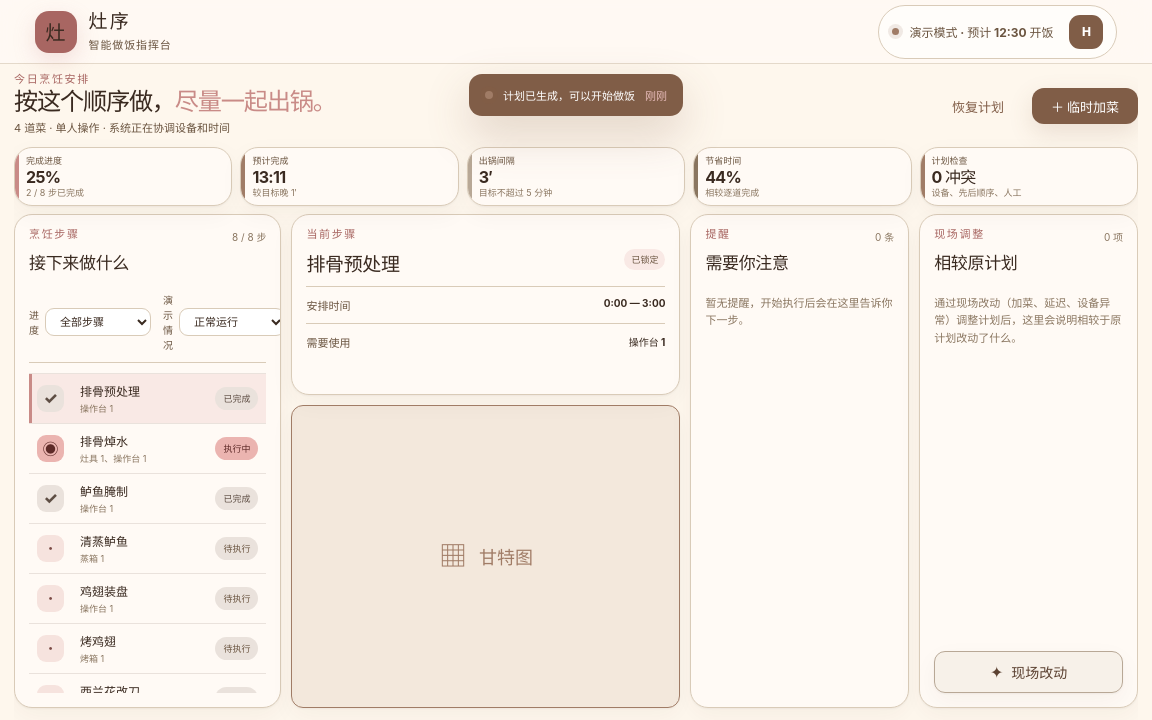
it: ExecutionDashboard › opens the execution chat from the icon button and adds a device from a command
This screenshot has width=1152, height=720.
Click the button "✦ 现场改动" at [1029, 672], box [934,651,1123,693]
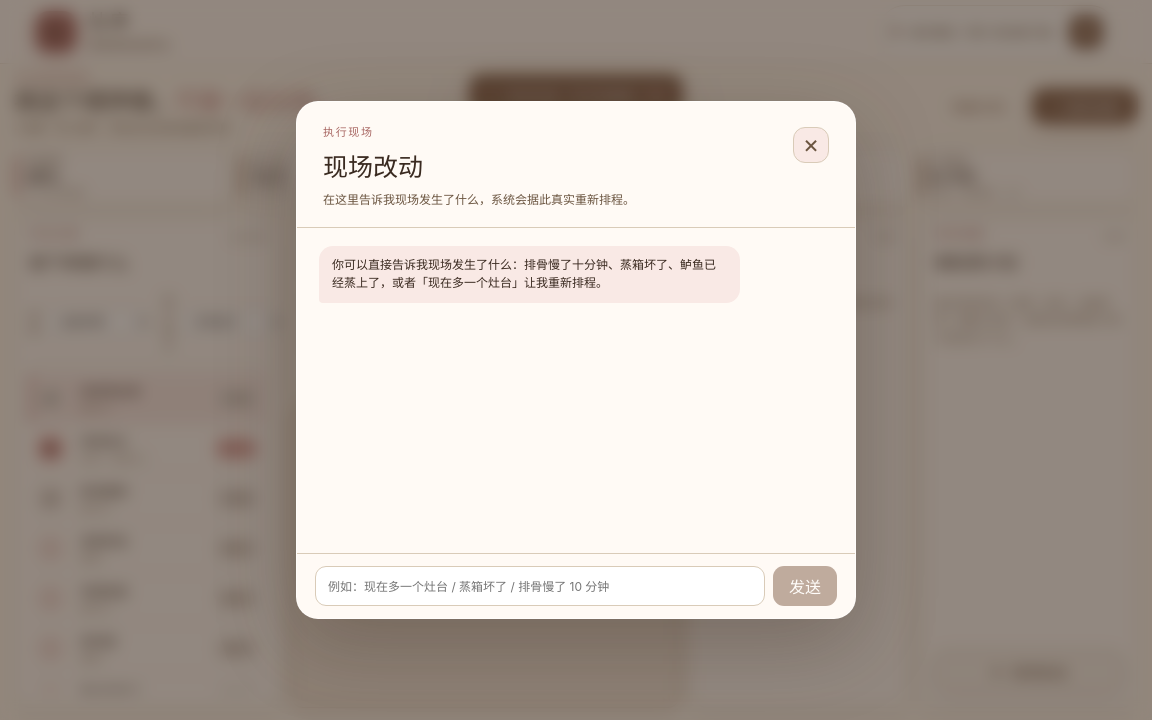
Check: the dialog "现场改动" is shown, box [296,101,856,619]
Type "现在多一个灶台" into the field named "输入执行指令" at [540, 586], box [315,566,765,606]
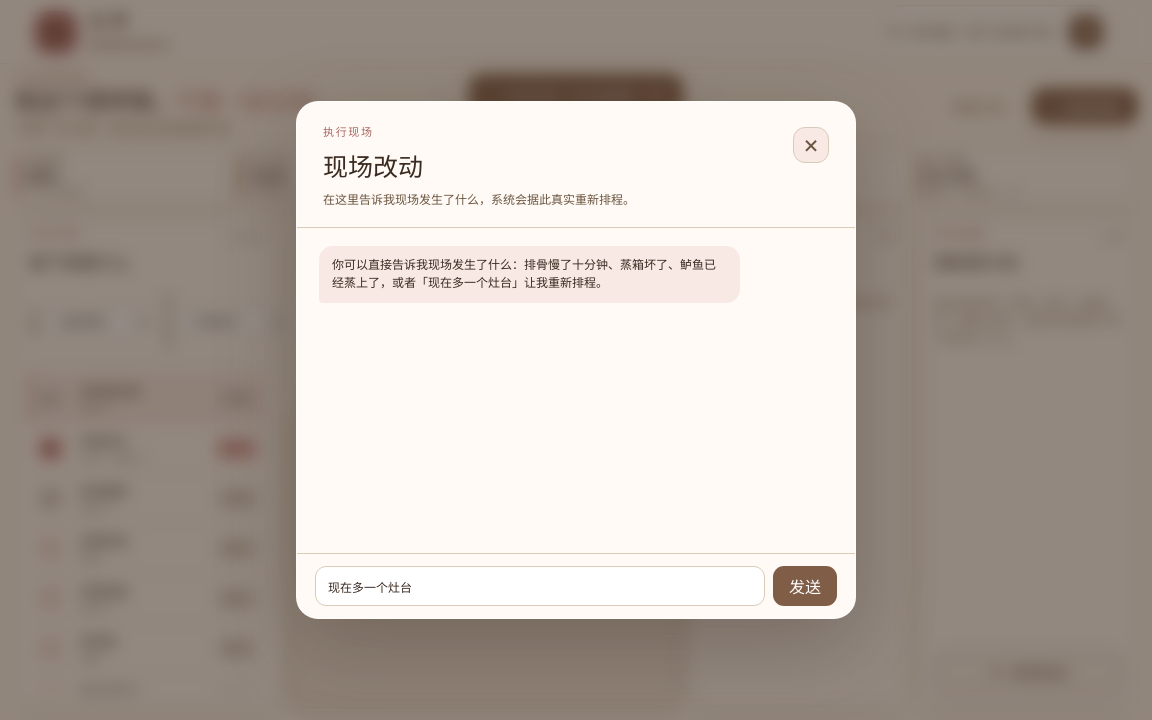
Click the button "发送" at [805, 586], box [773,566,837,606]
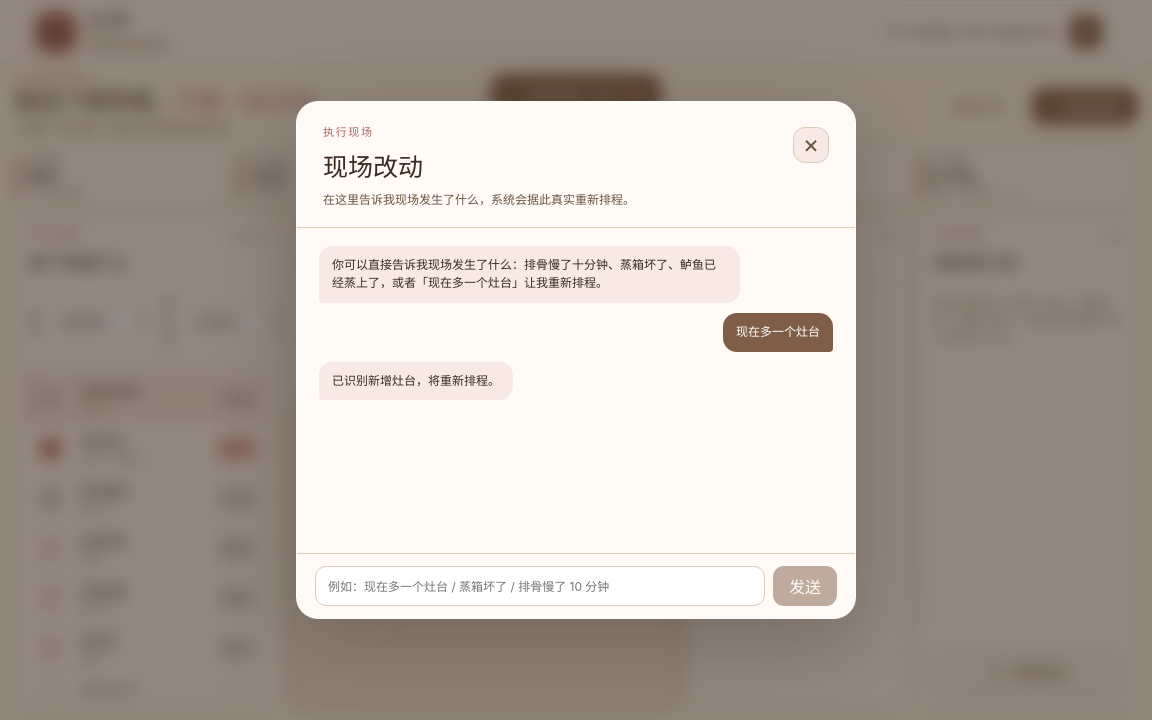
Check: the text "已新增设备：灶具" is shown, box [723,300,811,314]
